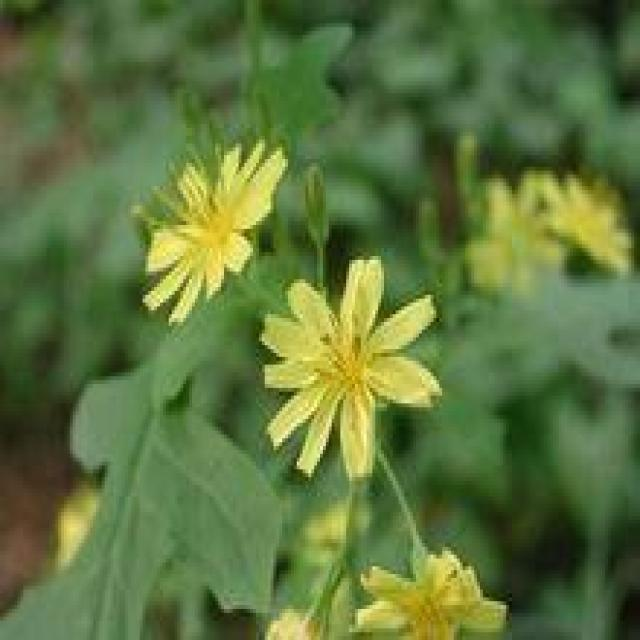organic waste: (249, 256, 452, 489), (128, 128, 303, 310), (349, 534, 495, 634)
